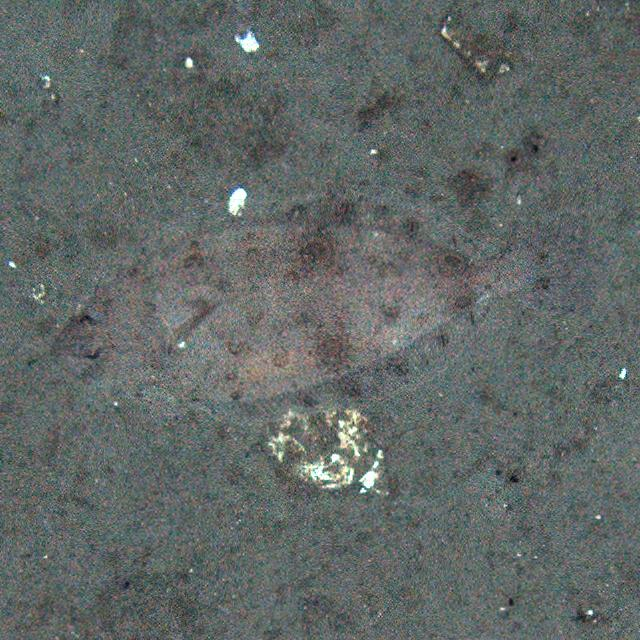flatfish: (44, 190, 578, 418)
